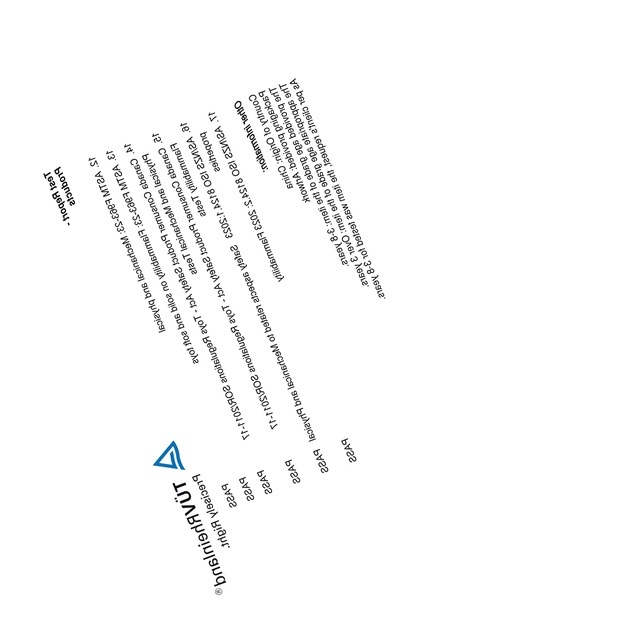tuv_rheinland: (152, 440, 233, 598)
